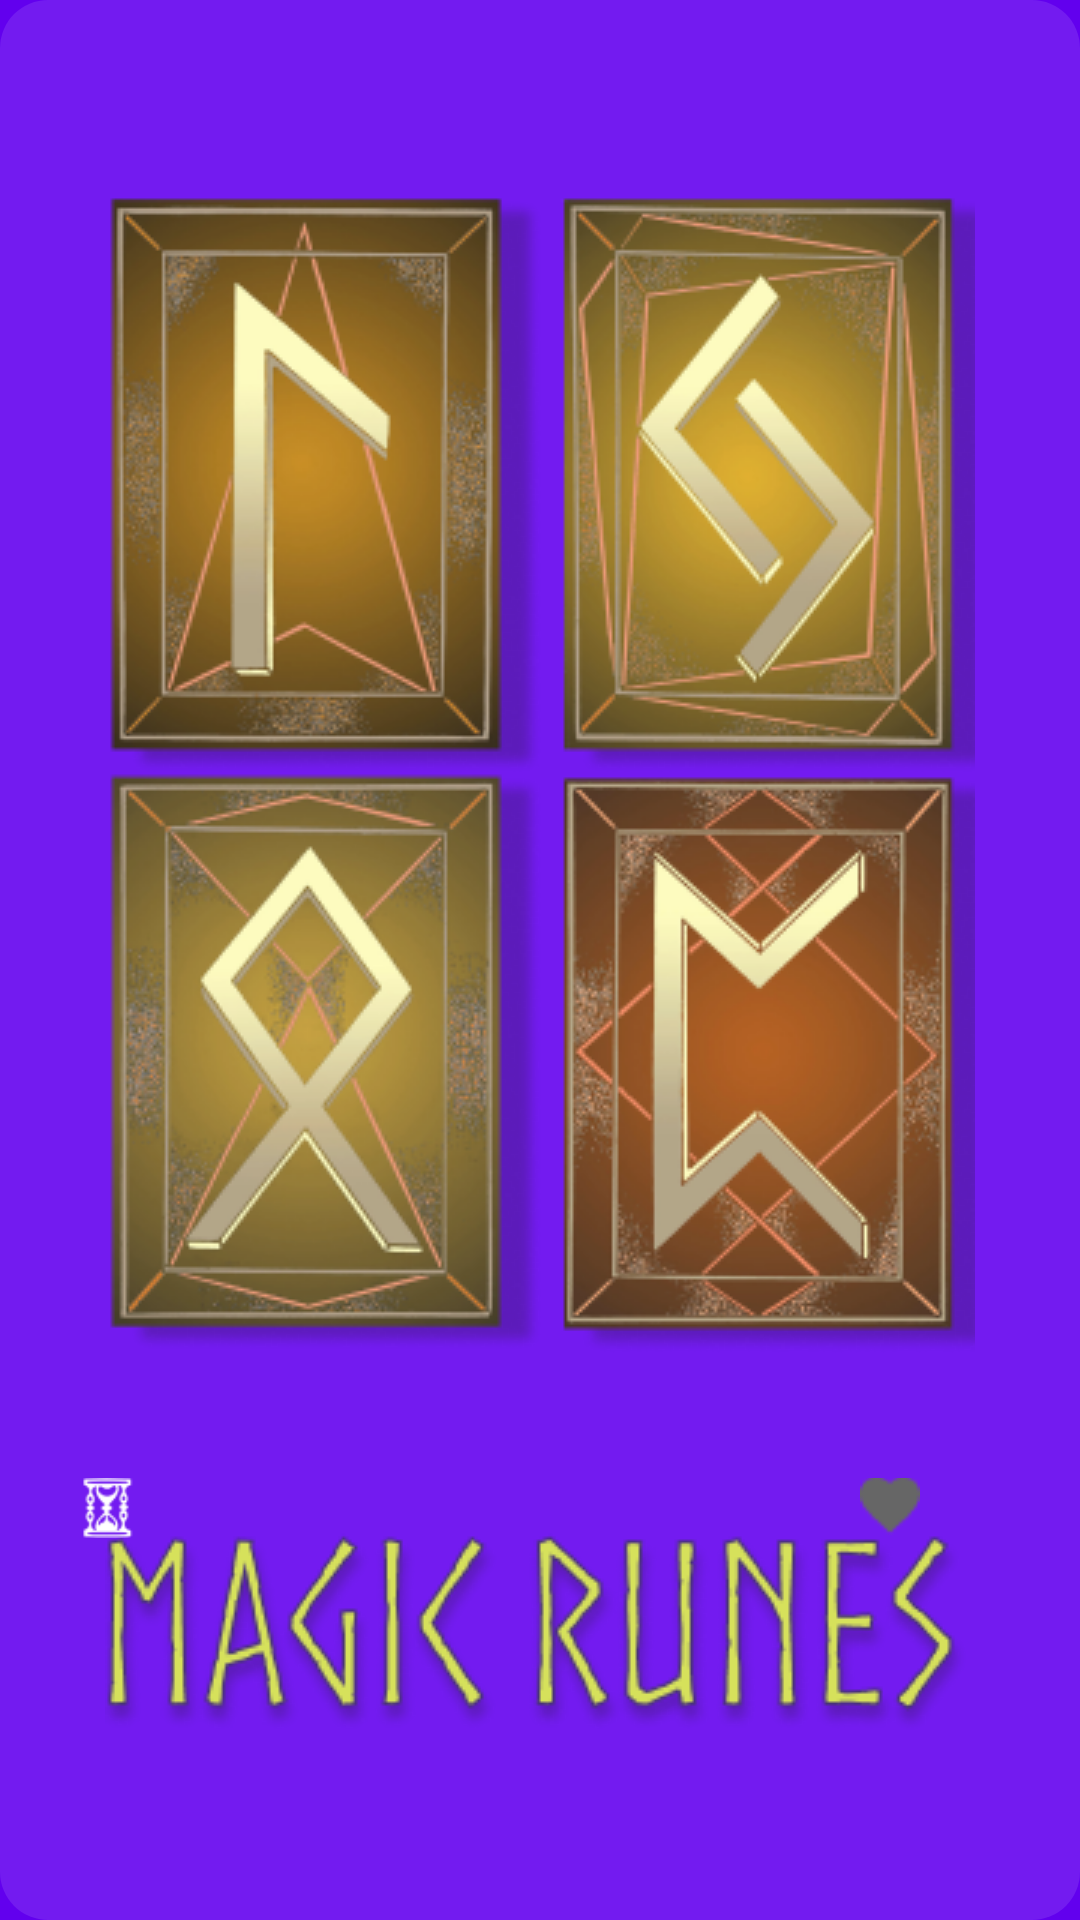

Icons on this 1080px x 1920px Android screen, each with its box as bbox(x1, y1, x2, y2):
favourite dis: bbox(860, 1478, 920, 1533)
history: bbox(83, 1478, 132, 1538)
